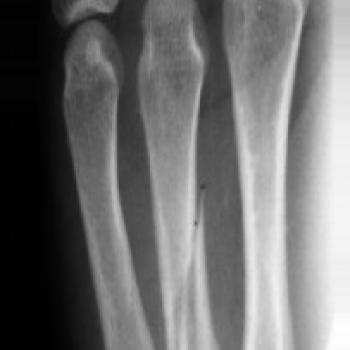Fracture: (165, 176, 214, 337)
